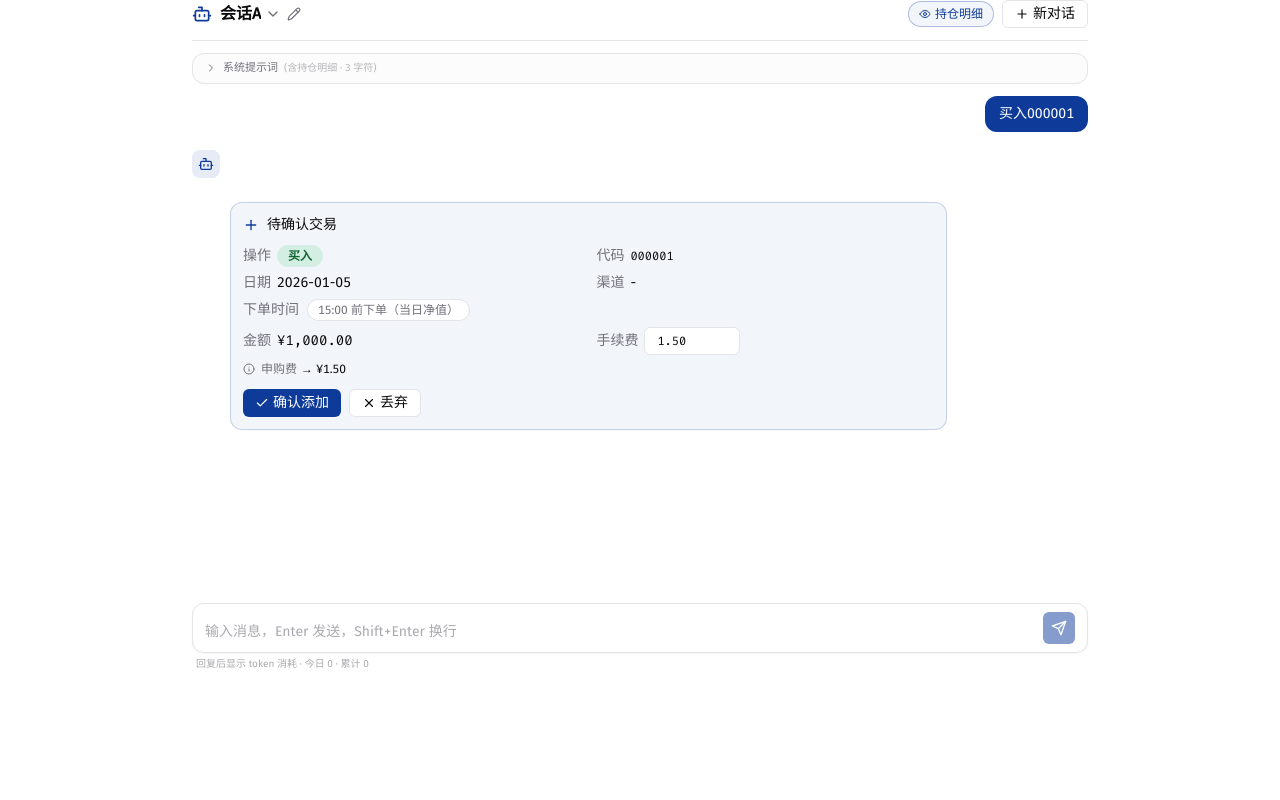
Scenario: AIChat 会话切换状态隔离 › streaming 期间历史会话入口禁用，点击不切换会话
Check: the number field is shown, box [644,326,740,354]
Note: 先打开历史下拉，再开始流式回复
Click the button "会话A": (251, 14) [220,2,281,26]
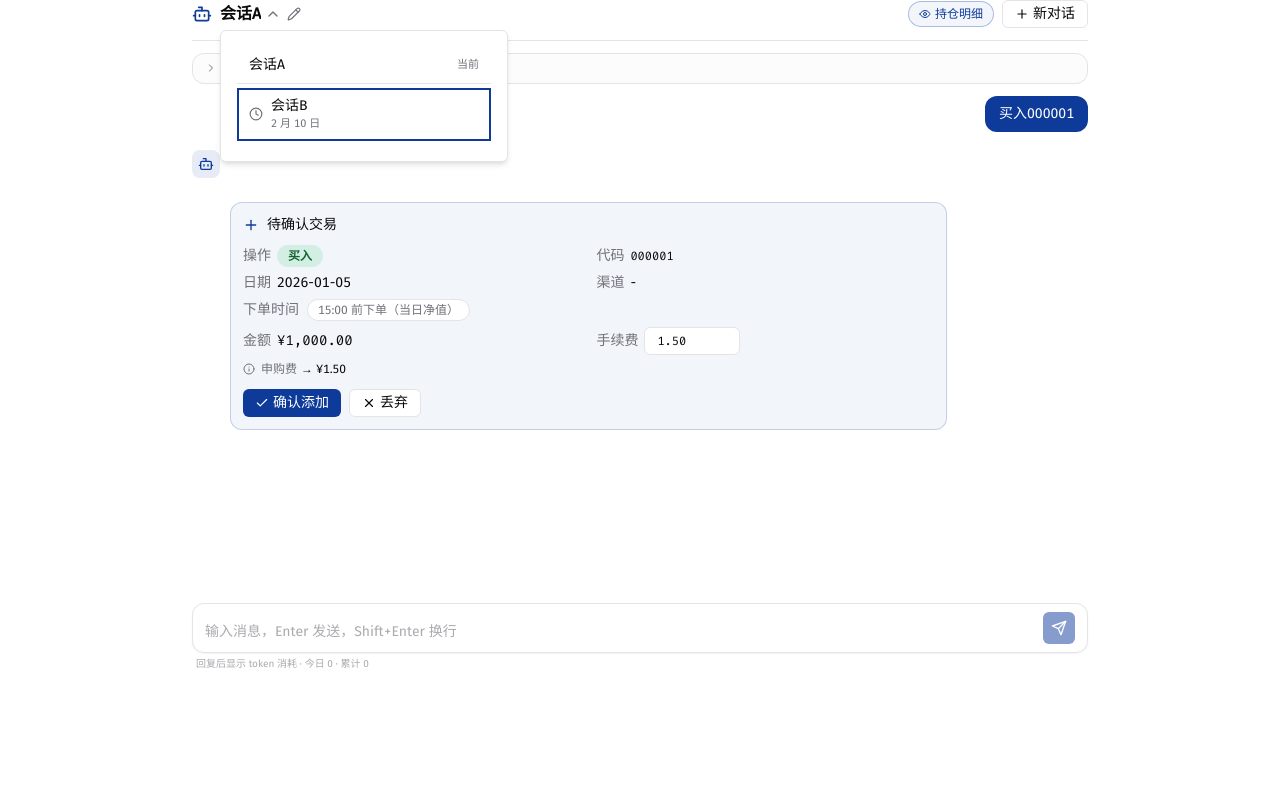
Check: the text "会话B" is shown, box [271,97,308,114]
In the text box with placeholder "输入消息，Enter 发送，Shift+Enter 换行": (620, 633) [205,621,1035,644], type "你好"
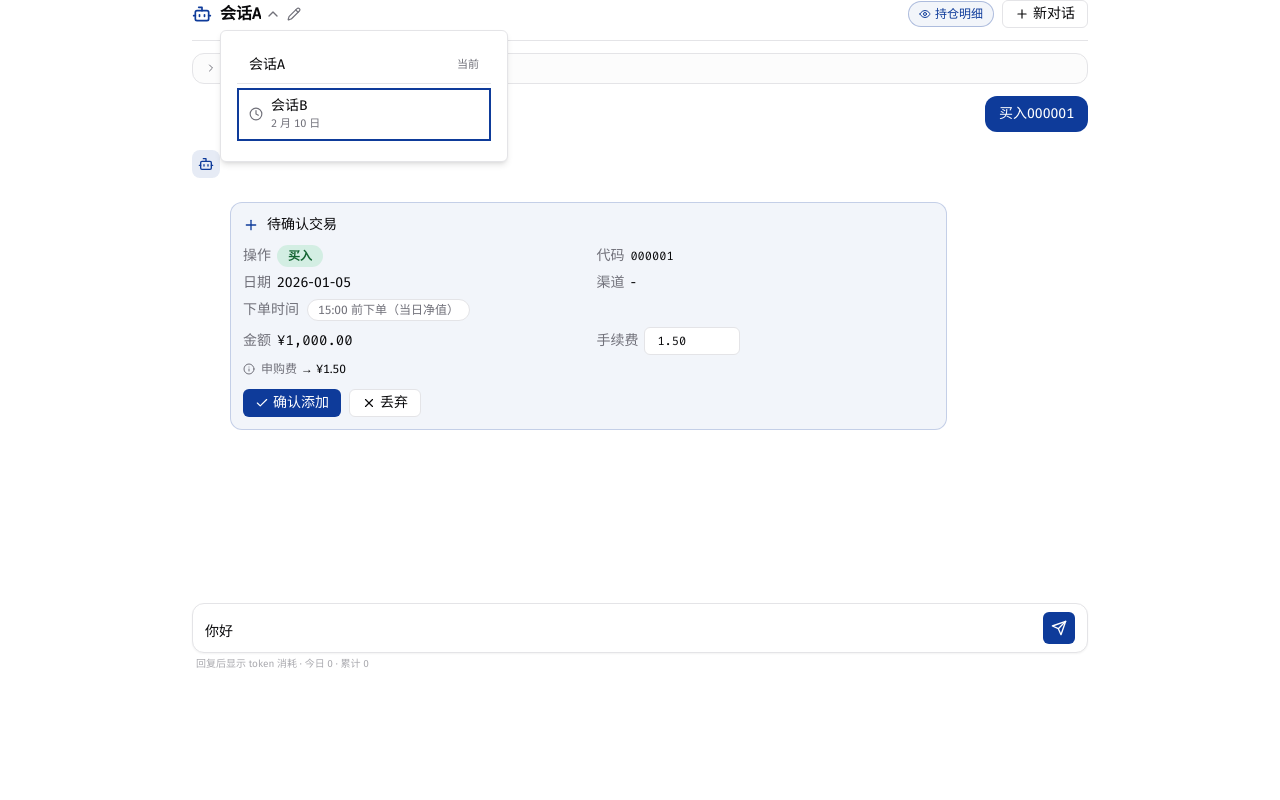
Press Enter in the text box with placeholder "输入消息，Enter 发送，Shift+Enter 换行", box [205,621,1035,644]
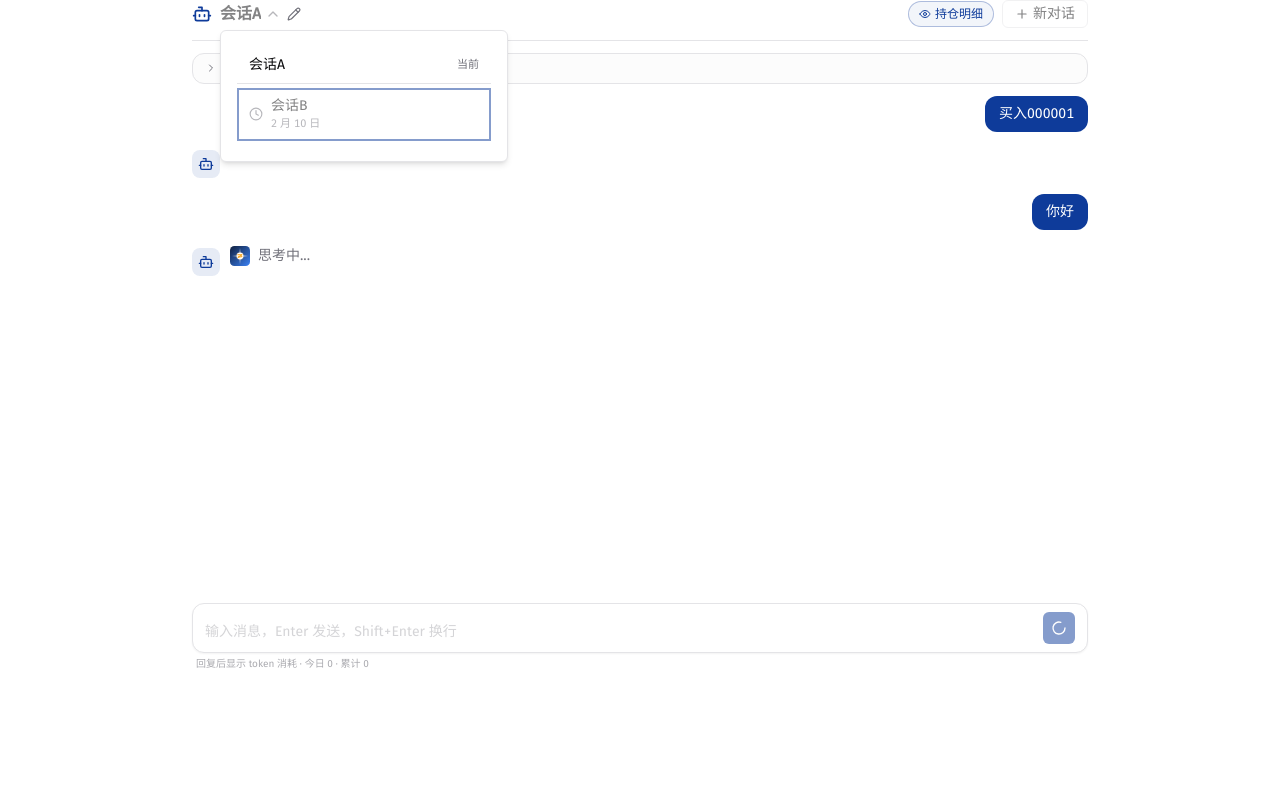
Check: the button "会话A" is disabled, box [220,2,281,26]
Check: the button "新对话" is disabled, box [1002,0,1088,28]
Click the text "会话B": (289, 106) [271,97,308,114]
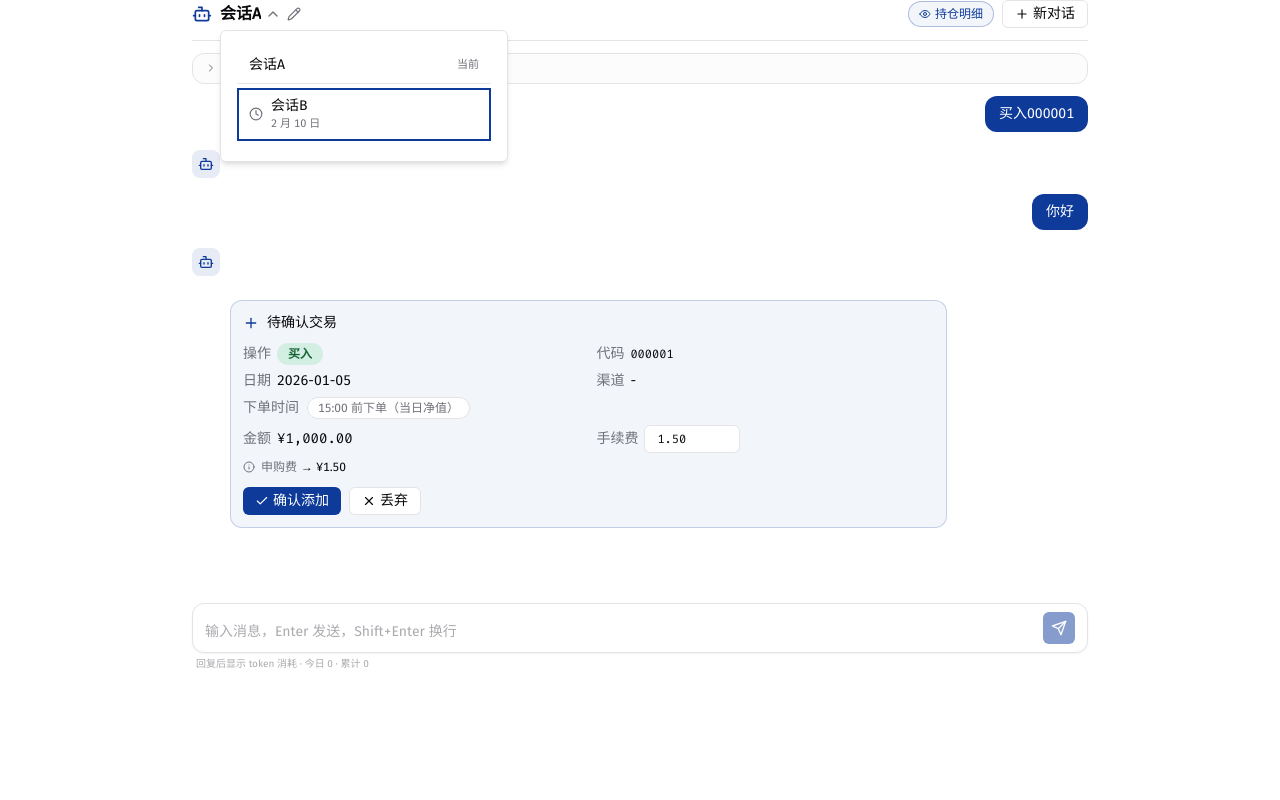
Check: the button "会话A" is enabled, box [220,2,281,26]
